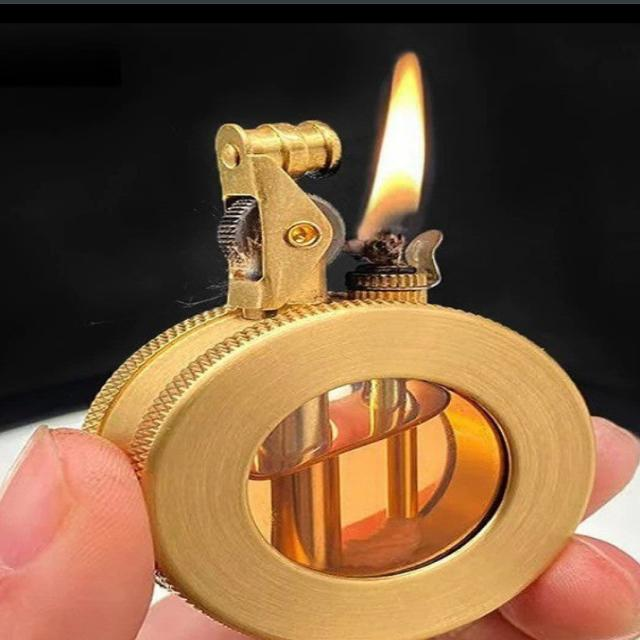fire: (358, 52, 425, 243)
